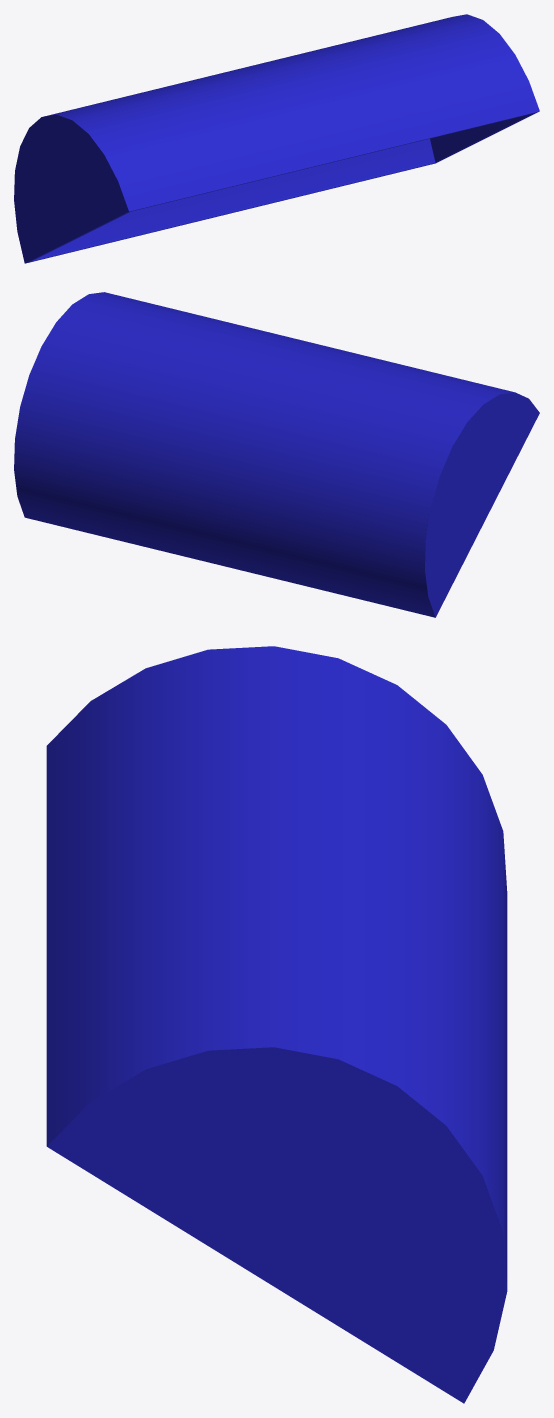
The model's file is original-494.obj.
3 renders of one model, top to bottom at view 1: azimuth 30°, elevation 25°; view 2: azimuth 150°, elevation 25°; view 3: azimuth 270°, elevation 25°, orthographic. The views are drawn at different scales.
Visible parts, largest first — view 1: mesh14/mesh14-geometry#mesh14-geometry; view 2: mesh14/mesh14-geometry#mesh14-geometry; view 3: mesh14/mesh14-geometry#mesh14-geometry.
Boxes of the visible parts, left/top/right/bottom form: mesh14/mesh14-geometry#mesh14-geometry: left=14, top=14, right=539, bottom=263; mesh14/mesh14-geometry#mesh14-geometry: left=14, top=292, right=539, bottom=617; mesh14/mesh14-geometry#mesh14-geometry: left=46, top=646, right=507, bottom=1403.
Bounding box in the file's own units: 1.58 × 0.656 × 0.7675.
